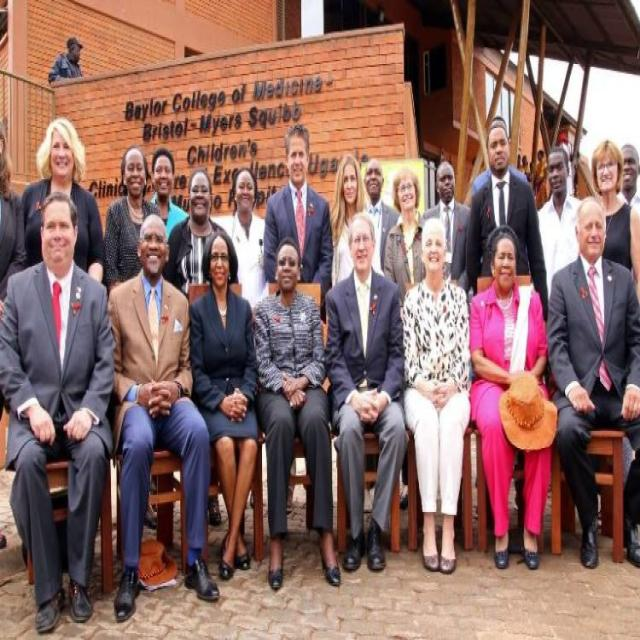body: (361, 156, 640, 640), (0, 187, 114, 637), (104, 210, 220, 622), (545, 193, 639, 569), (250, 233, 343, 592), (323, 209, 409, 573), (468, 222, 554, 572), (261, 121, 335, 515), (401, 216, 472, 575), (188, 228, 259, 583), (465, 121, 550, 327), (20, 114, 106, 286), (464, 118, 531, 296), (164, 166, 240, 300), (103, 143, 162, 294), (590, 136, 640, 298), (536, 144, 584, 303), (420, 160, 473, 294), (382, 164, 428, 307), (327, 150, 371, 292), (226, 165, 268, 313), (0, 119, 20, 314), (148, 147, 188, 243), (47, 34, 87, 88), (616, 142, 640, 220), (534, 145, 550, 216), (516, 152, 531, 215), (526, 160, 536, 198), (516, 152, 522, 171)
